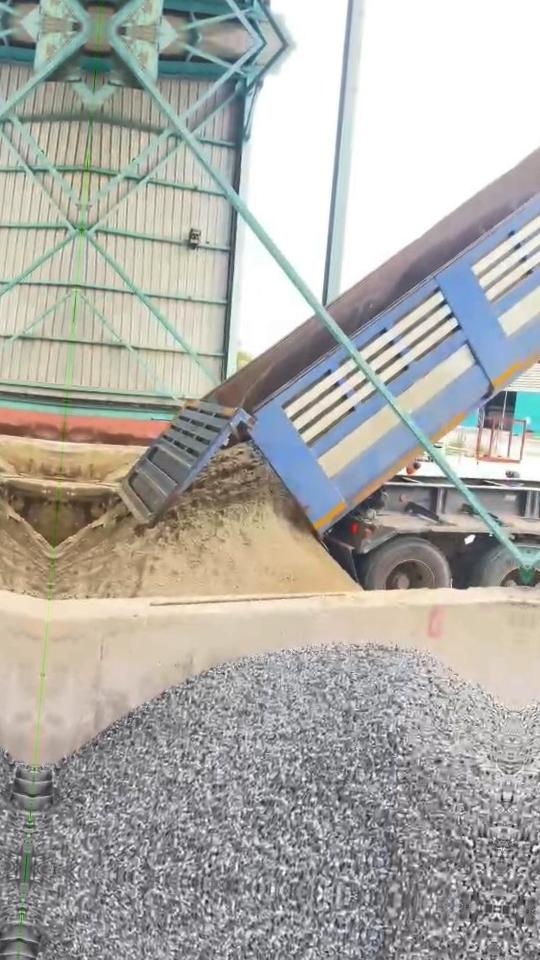gravel: (32, 644, 515, 909)
sand: (52, 444, 355, 598), (61, 443, 142, 481)
